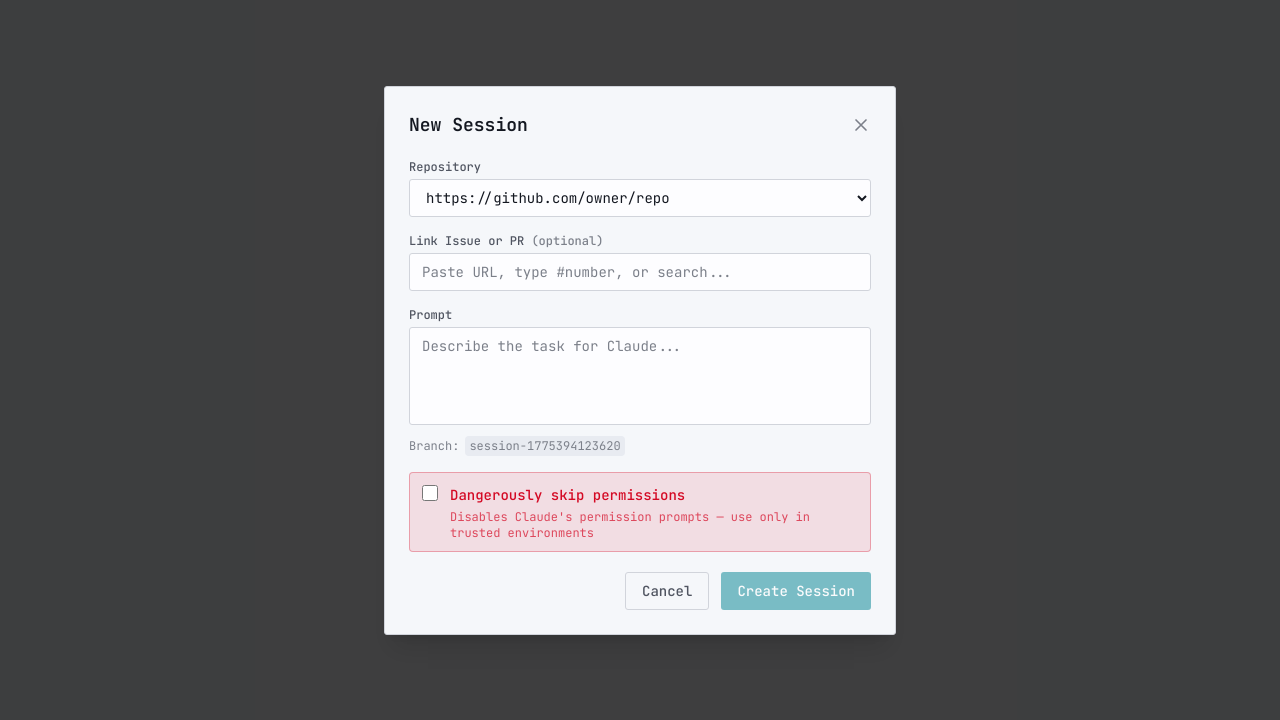
Scenario: NewSessionModal › shows worktree conflict error and Replace button
The width and height of the screenshot is (1280, 720).
// Type a prompt
Step 1. Type "fix the bug" into the text box with placeholder "Describe the task for Claude..." → x=640, y=376, box x1=409 y1=326 x2=871 y2=424
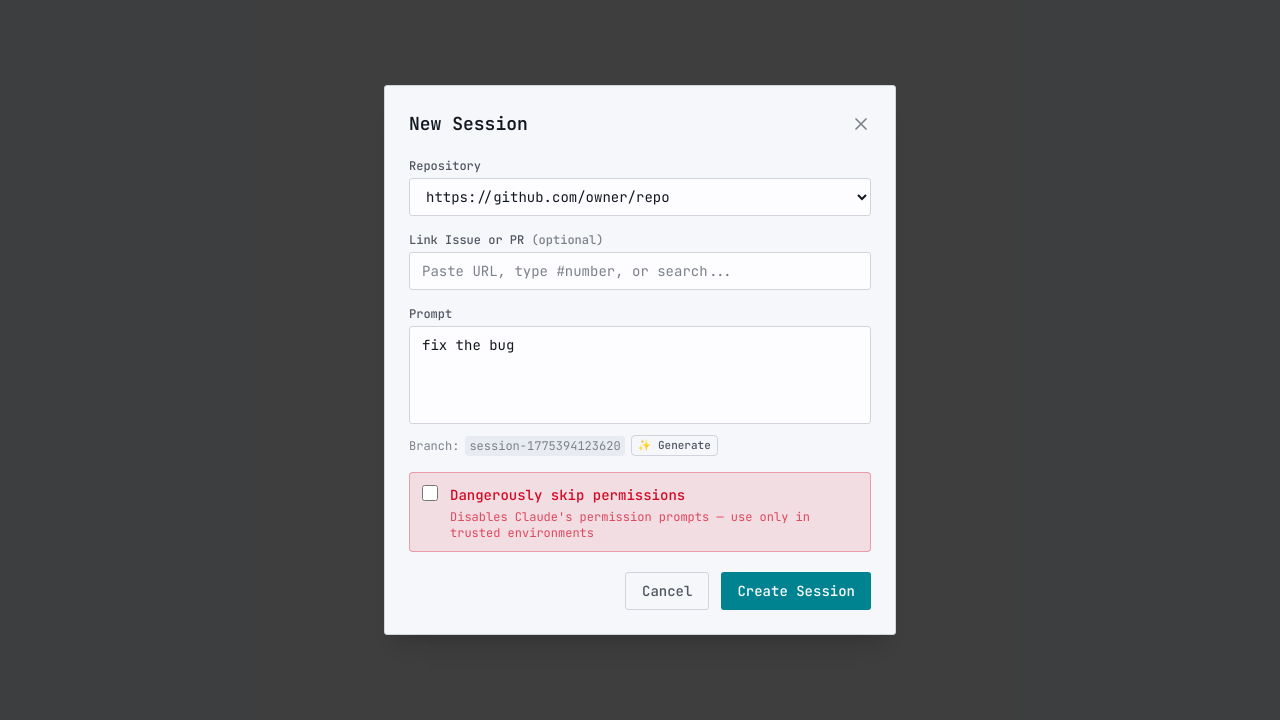
Step 2. Click the button "Create Session" → x=796, y=591, box x1=721 y1=572 x2=871 y2=610
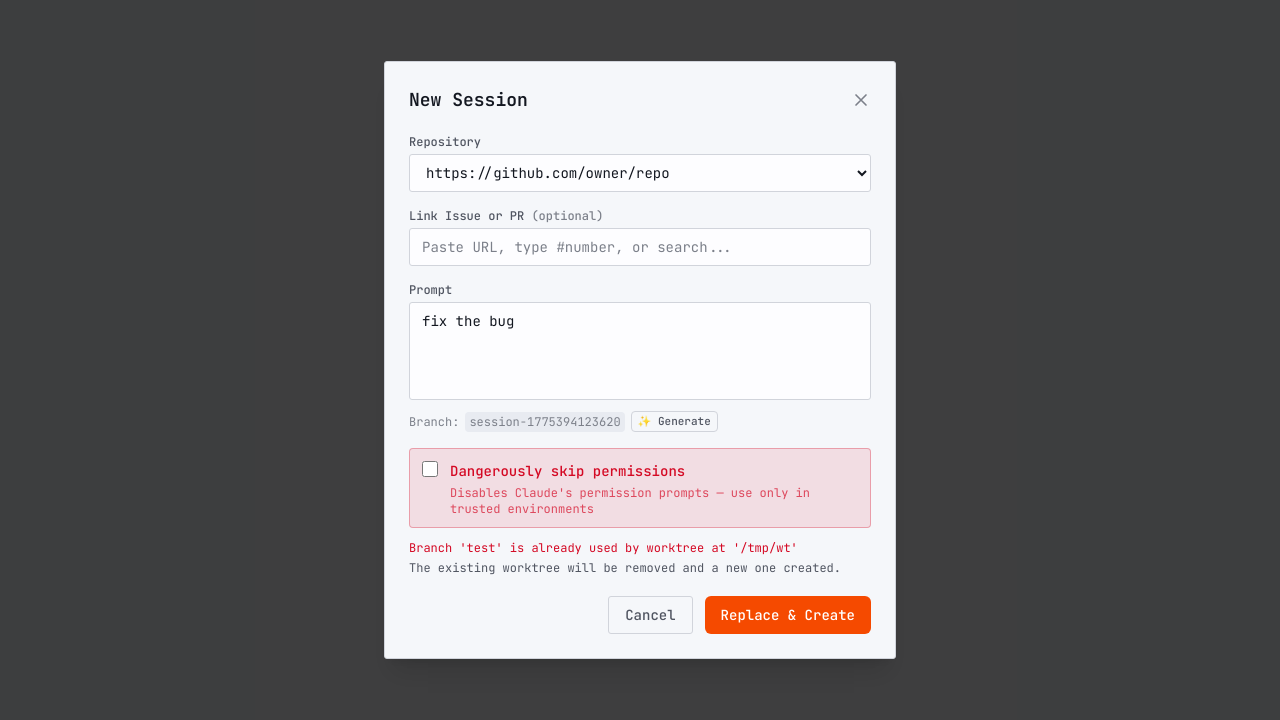
Result: the text "Branch 'test' is already used by worktree at '/tmp/wt'" is shown at x1=409 y1=540 x2=798 y2=556
Result: the button "Replace & Create" is shown at x1=705 y1=596 x2=871 y2=634
